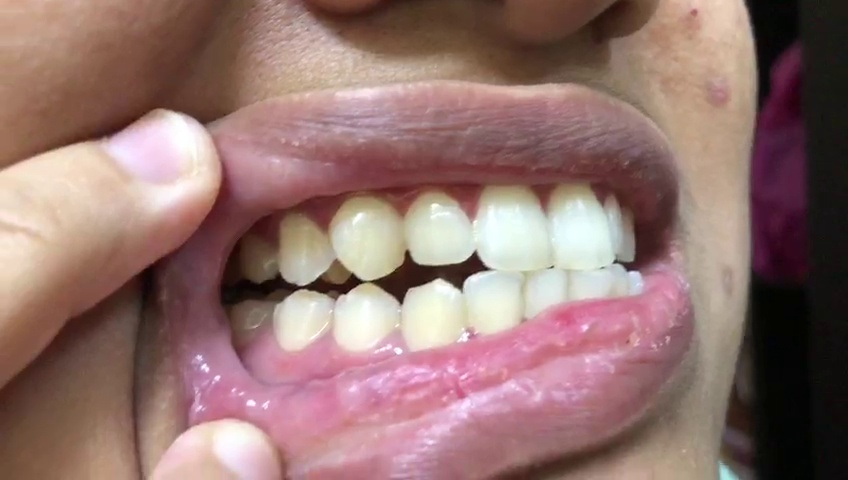1st Molar: (229, 297, 272, 340)
1st Premolar: (333, 283, 402, 355), (279, 208, 334, 285)
2nd Premolar: (273, 287, 332, 353), (236, 228, 278, 286)
Canine: (330, 190, 406, 281), (404, 278, 465, 353)
Central Incisor: (473, 182, 554, 271), (547, 179, 616, 270)
Lateral Incisor: (407, 188, 473, 264), (463, 270, 524, 339)
